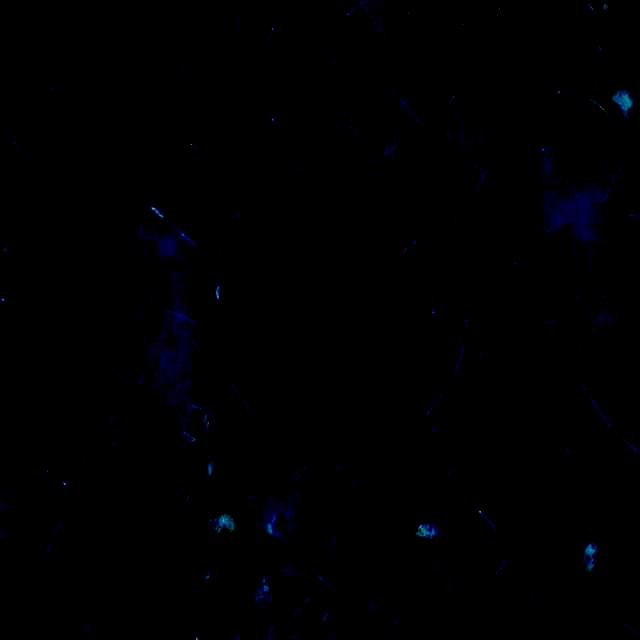VASC: (251, 179, 406, 410)
